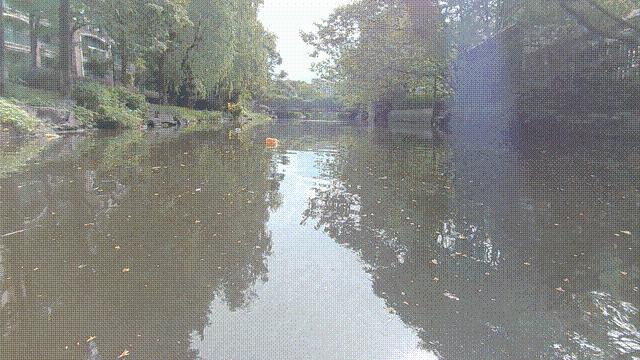Plastic: (266, 138, 280, 146), (45, 132, 61, 139), (139, 124, 147, 130), (235, 127, 241, 133)
